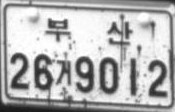0: (98, 55, 119, 95)
1: (123, 57, 143, 96)
2: (147, 58, 168, 98), (9, 51, 30, 90)
6: (32, 52, 53, 91)
9: (74, 55, 95, 93)
거: (55, 59, 72, 86)
부산_D: (44, 17, 133, 46)
